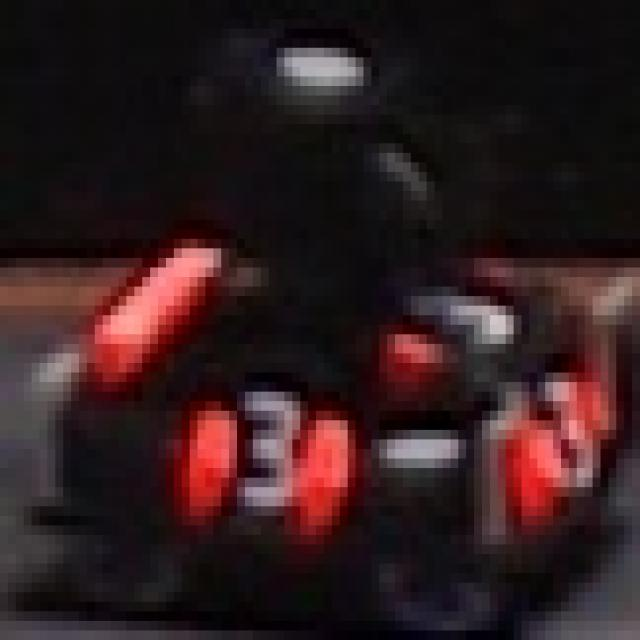R3: (174, 382, 363, 516), (372, 248, 530, 372), (506, 363, 616, 506)
